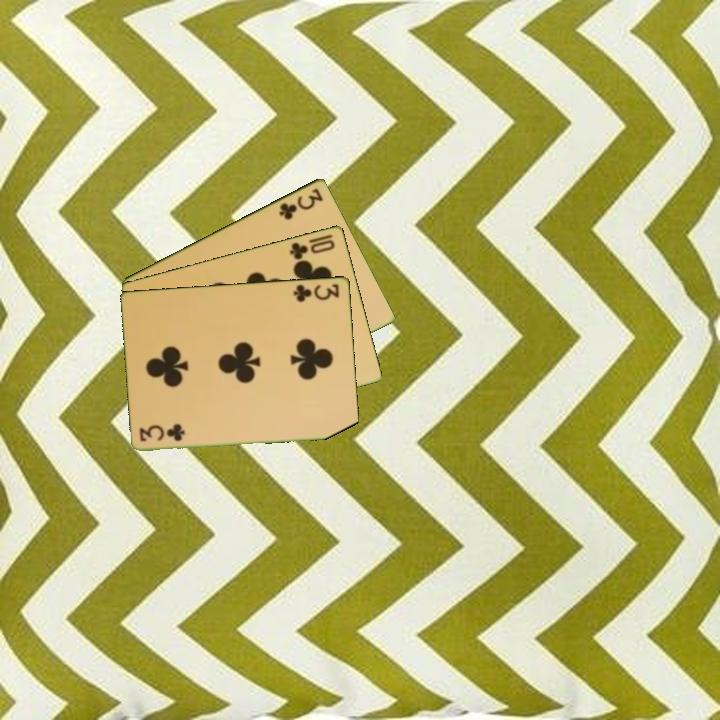10c: (286, 236, 338, 262)
3c: (275, 184, 326, 222), (290, 280, 342, 304), (136, 423, 188, 444)
